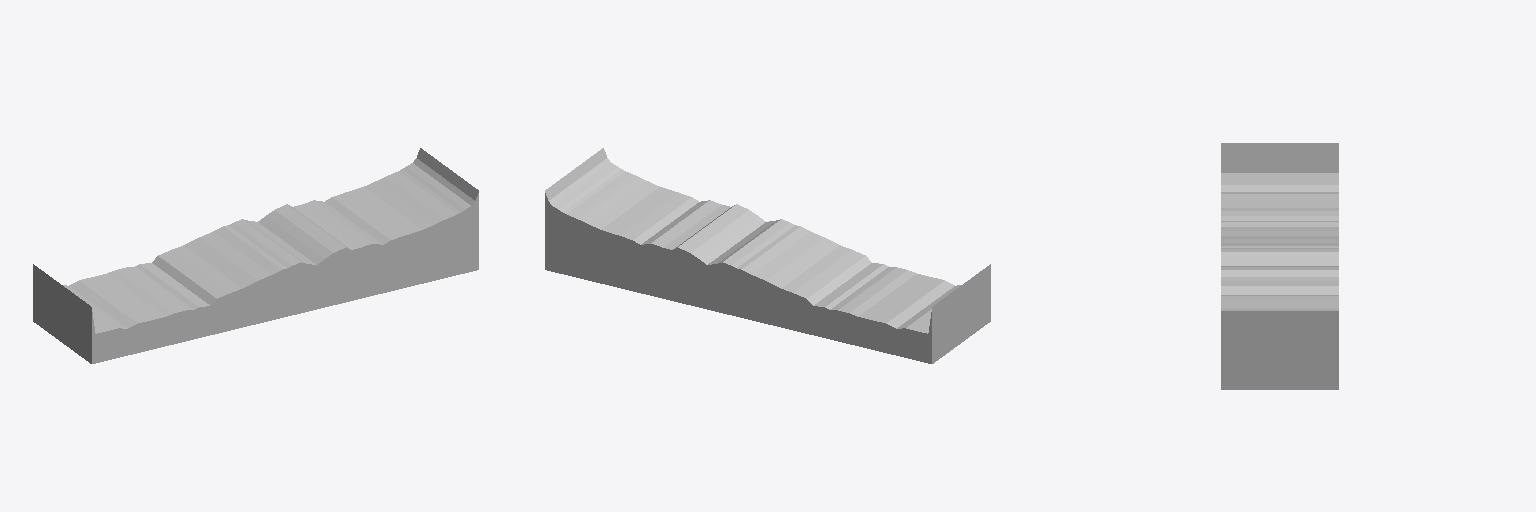
The model's file is bug-collisions.obj.
3 views of the same model, side by side, from view 1: azimuth 30°, elevation 25°; view 2: azimuth 150°, elevation 25°; view 3: azimuth 270°, elevation 25° (orthographic).
Visible parts, largest first — view 1: Ground.001_Cube.436; view 2: Ground.001_Cube.436; view 3: Ground.001_Cube.436.
Boxes of the visible parts, x1,y1,x2,y2 form: Ground.001_Cube.436: [33, 148, 478, 363]; Ground.001_Cube.436: [545, 148, 990, 363]; Ground.001_Cube.436: [1221, 143, 1338, 389].
Size of the model in its own units: 30.3 by 5.91 by 8.